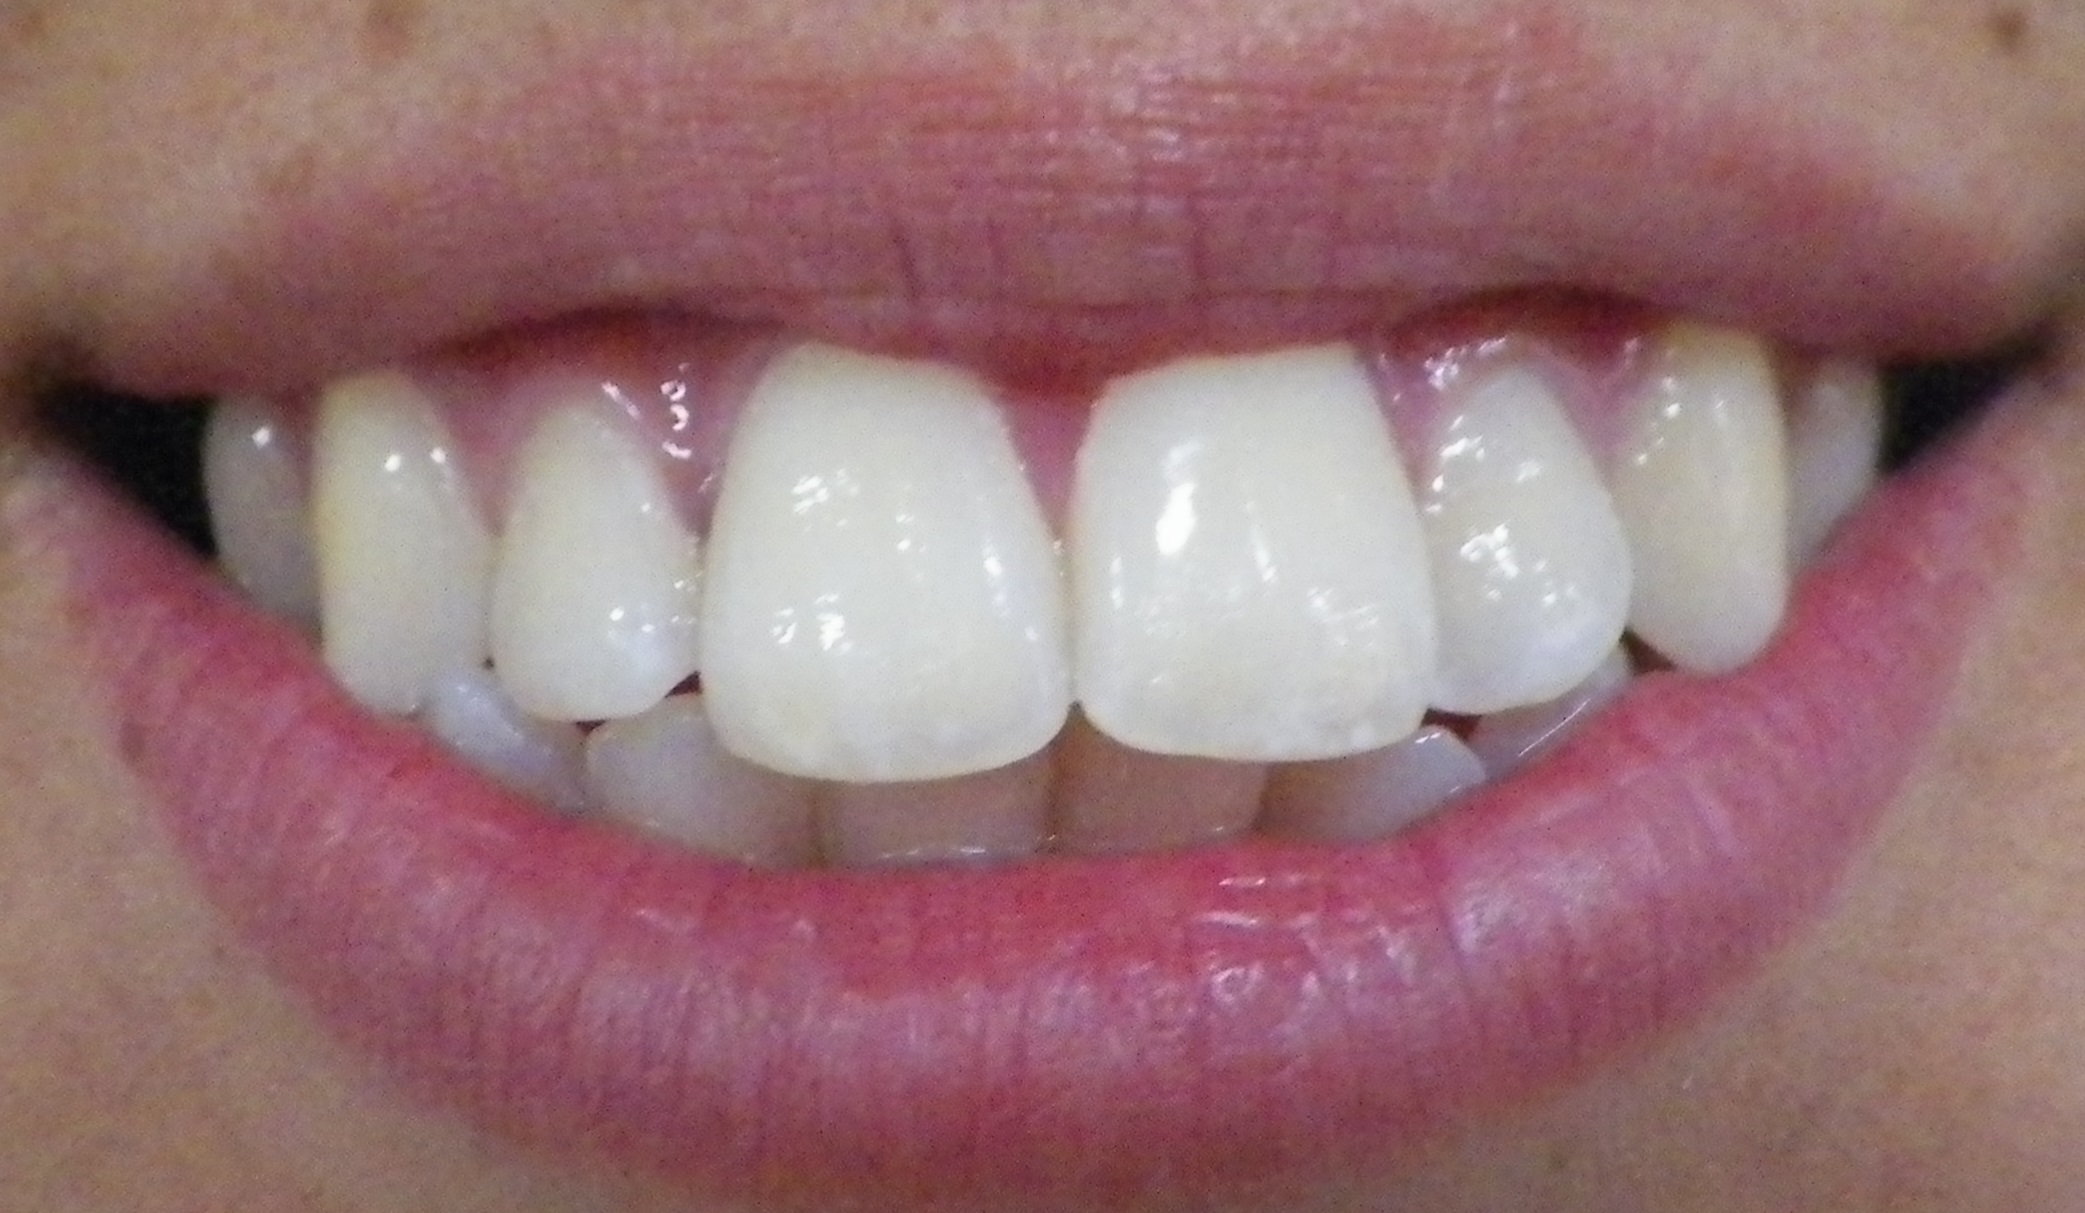boca: (204, 373, 1923, 852)
